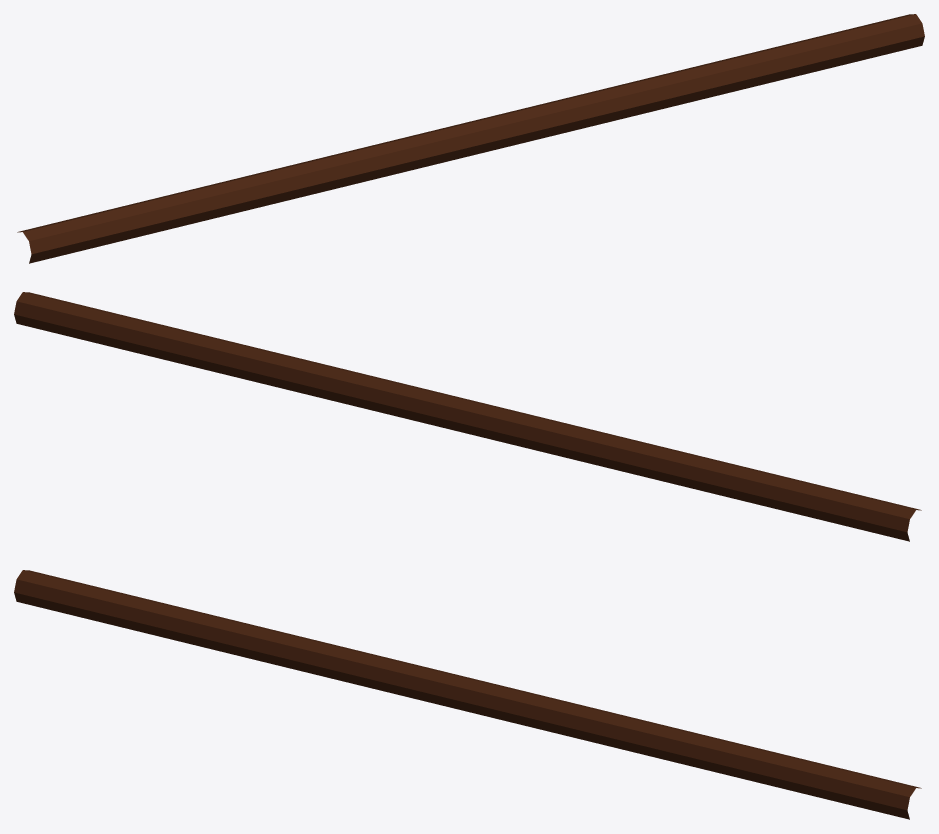
Rendered from monkey-king.glb.
3 renders of one model, top to bottom at view 1: azimuth 30°, elevation 25°; view 2: azimuth 150°, elevation 25°; view 3: azimuth 330°, elevation 25°, orthographic.
Parts seen in each view (by area): view 1: monkey-king-shaft; view 2: monkey-king-shaft; view 3: monkey-king-shaft.
Boxes of the visible parts, left/top/right/bottom form: monkey-king-shaft: left=17, top=14, right=924, bottom=263; monkey-king-shaft: left=14, top=292, right=921, bottom=541; monkey-king-shaft: left=14, top=570, right=921, bottom=819.
Bounding box in the file's own units: 1.65 × 0.056 × 0.056.
